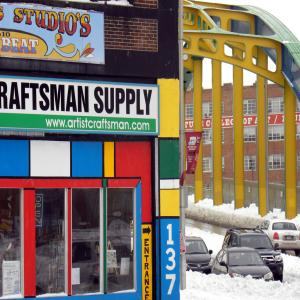Vehicle-registration-plate: (287, 236, 293, 241)
